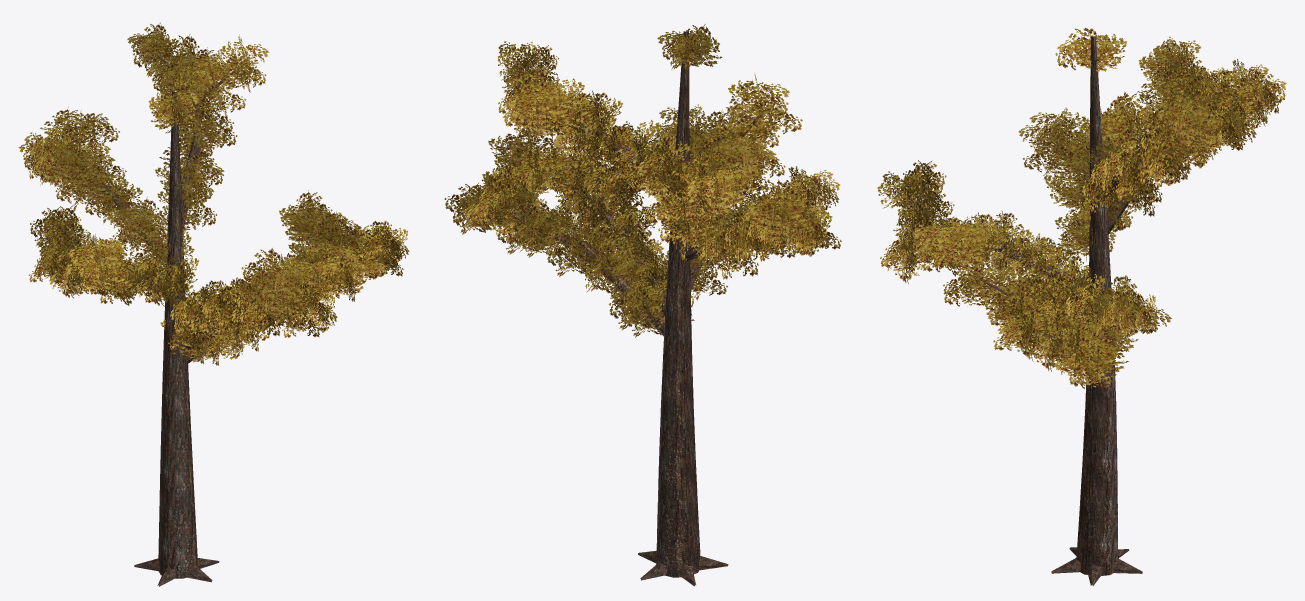
File: tree_3d_01_yellow_lod0.glb
3 renders of one model, left to right at view 1: azimuth 30°, elevation 25°; view 2: azimuth 150°, elevation 25°; view 3: azimuth 270°, elevation 25°, orthographic. The views are drawn at different scales.
Parts seen in each view (by area): view 1: foliage_cards, wood_geometry; view 2: foliage_cards, wood_geometry; view 3: foliage_cards, wood_geometry.
Part boxes in pixels (<box>): foliage_cards: <box>18,22,409,365</box>; wood_geometry: <box>67,53,388,586</box>; foliage_cards: <box>444,24,841,337</box>; wood_geometry: <box>488,31,803,586</box>; foliage_cards: <box>877,27,1286,392</box>; wood_geometry: <box>915,36,1247,585</box>.
Size of the model in its own units: 7.11 by 9.14 by 6.44.
2 materials, 2 textured.
